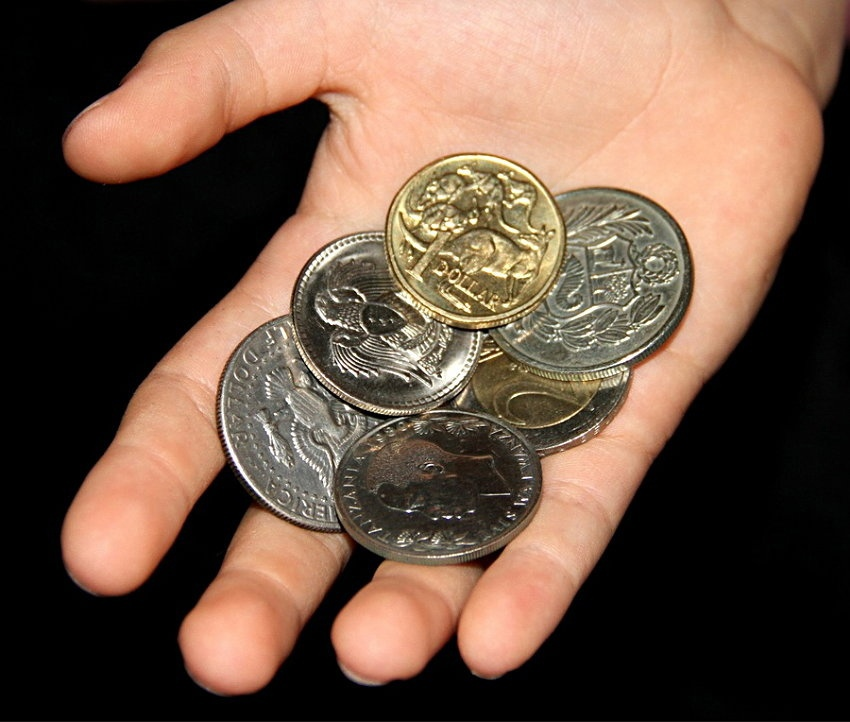coin: (491, 185, 696, 382), (290, 230, 484, 416), (215, 315, 378, 532), (383, 151, 567, 329), (333, 410, 543, 564)
